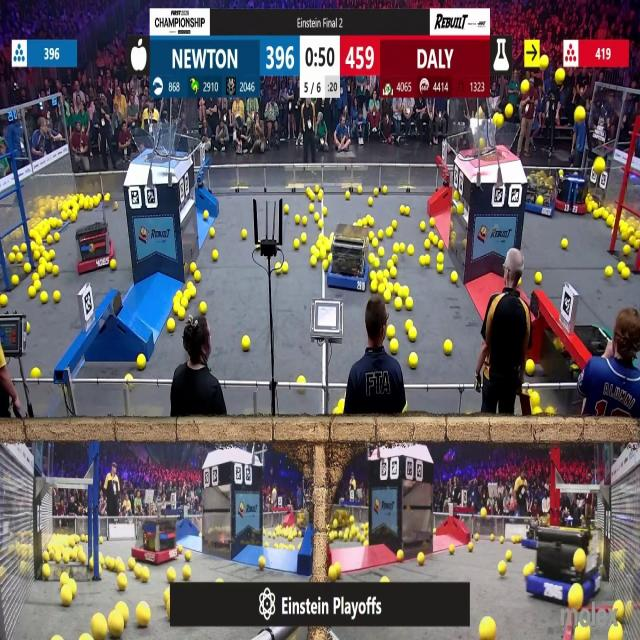ball_airborne: (481, 619, 496, 640), (593, 156, 603, 173), (574, 106, 585, 121), (556, 69, 565, 83), (494, 113, 504, 125), (504, 105, 512, 118), (522, 80, 530, 93), (540, 58, 547, 70), (480, 139, 485, 151), (143, 110, 148, 120), (153, 110, 158, 119)
ball_ground: (93, 616, 108, 639), (137, 605, 150, 629), (568, 588, 582, 610), (62, 589, 72, 607), (116, 574, 126, 590), (613, 626, 624, 640), (136, 408, 150, 419), (139, 567, 149, 582), (530, 392, 540, 406), (0, 345, 6, 368), (617, 603, 625, 620), (137, 354, 146, 369), (409, 353, 418, 368), (575, 628, 586, 640), (328, 566, 337, 580), (242, 337, 250, 352), (168, 568, 177, 581), (390, 340, 398, 354), (182, 565, 190, 579), (526, 360, 534, 374), (42, 564, 50, 578), (498, 561, 506, 575), (445, 341, 453, 355), (394, 296, 402, 310), (121, 605, 128, 620), (168, 319, 176, 332), (387, 325, 395, 338), (410, 328, 418, 340), (106, 558, 114, 570), (116, 560, 124, 572), (400, 286, 408, 297), (392, 284, 400, 295), (38, 267, 46, 278), (0, 294, 7, 306), (258, 557, 265, 569), (534, 273, 541, 285), (178, 308, 185, 320), (418, 554, 425, 566), (41, 291, 48, 303), (407, 298, 414, 310), (129, 558, 136, 570), (606, 215, 613, 227), (32, 366, 40, 376), (78, 554, 86, 564), (172, 304, 180, 314), (623, 269, 630, 280), (369, 281, 376, 292), (384, 291, 391, 302), (29, 286, 36, 297), (456, 203, 463, 214), (201, 303, 207, 315), (452, 272, 458, 284), (55, 290, 61, 302), (390, 268, 396, 280), (165, 590, 171, 602), (61, 574, 69, 583), (311, 256, 318, 266), (11, 276, 18, 286), (605, 268, 612, 278), (49, 266, 56, 276), (42, 552, 49, 562), (110, 261, 116, 272), (193, 272, 199, 283), (35, 280, 41, 291), (185, 551, 191, 562), (90, 558, 96, 569), (545, 408, 553, 416), (532, 409, 540, 417), (618, 264, 625, 273), (562, 240, 568, 250), (282, 264, 288, 274), (505, 552, 511, 562), (408, 244, 414, 254), (396, 552, 402, 562), (212, 250, 218, 260), (204, 210, 210, 220), (420, 255, 426, 265), (439, 265, 445, 275), (293, 237, 299, 247), (48, 250, 54, 260), (189, 264, 195, 274), (439, 252, 445, 262), (322, 262, 328, 272), (379, 283, 385, 293), (182, 296, 188, 306), (34, 250, 40, 260), (384, 270, 390, 280), (407, 320, 413, 330), (593, 210, 599, 220), (524, 566, 530, 576), (320, 249, 326, 259), (19, 242, 25, 252), (297, 376, 304, 384), (386, 230, 393, 238), (302, 216, 309, 224), (312, 248, 319, 256), (94, 200, 101, 208), (316, 240, 323, 248), (242, 231, 248, 240), (379, 248, 385, 257), (25, 265, 31, 274), (420, 221, 426, 230), (424, 241, 430, 250), (379, 232, 385, 241), (189, 288, 195, 297), (81, 634, 90, 640), (375, 258, 381, 267), (371, 239, 377, 248), (624, 246, 630, 255), (8, 253, 14, 262), (299, 235, 305, 244), (340, 398, 346, 407), (55, 234, 61, 243), (399, 244, 405, 253), (367, 217, 373, 226), (309, 204, 315, 213), (318, 219, 324, 228), (378, 272, 384, 281), (588, 204, 594, 213), (64, 555, 70, 564), (31, 241, 37, 250), (450, 543, 455, 553), (392, 254, 397, 264), (100, 556, 105, 566), (382, 575, 389, 582), (338, 409, 345, 416), (467, 542, 473, 550), (369, 272, 375, 280), (276, 264, 282, 272), (186, 282, 192, 290), (314, 213, 320, 221), (429, 218, 435, 226), (33, 272, 39, 280), (46, 236, 52, 244), (307, 194, 313, 202), (387, 262, 393, 270), (318, 192, 324, 200), (318, 235, 324, 243), (82, 538, 88, 546), (210, 229, 215, 238), (284, 205, 289, 214), (294, 215, 299, 224), (440, 241, 445, 250), (399, 206, 404, 215), (16, 253, 21, 262), (368, 254, 373, 263), (393, 244, 398, 253), (406, 207, 411, 216), (216, 576, 222, 583), (513, 535, 519, 542), (176, 290, 182, 297), (127, 375, 133, 382), (428, 233, 434, 240), (326, 255, 332, 262), (367, 199, 372, 207), (322, 208, 327, 216), (105, 192, 110, 200), (392, 220, 397, 228), (516, 280, 521, 288), (27, 322, 31, 332), (184, 288, 188, 298), (39, 256, 44, 264), (327, 241, 332, 249), (329, 234, 334, 242), (363, 539, 368, 547), (346, 191, 351, 198), (71, 215, 76, 222), (383, 186, 388, 193), (368, 232, 372, 240), (114, 203, 118, 211), (55, 636, 63, 640), (474, 533, 478, 540), (491, 534, 495, 541), (100, 536, 104, 543), (500, 536, 504, 542), (266, 541, 270, 547), (276, 542, 280, 548), (432, 528, 435, 534), (200, 534, 203, 539)
goal: (466, 123, 522, 159), (130, 131, 187, 160)
robot_blue: (530, 528, 604, 608), (328, 223, 371, 291), (524, 171, 558, 217), (522, 514, 544, 548), (341, 478, 364, 507)
robot_red: (132, 515, 178, 564), (76, 223, 114, 273), (554, 167, 588, 213)
